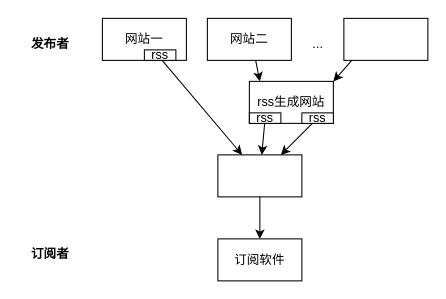
This 446x299 diagram has some shape labels left out. Here are the shapes that lost their labels. From the top down, the centre of each, then its label:
the point at 385,38: 网站喵
the point at 259,175: RSS订阅服务
